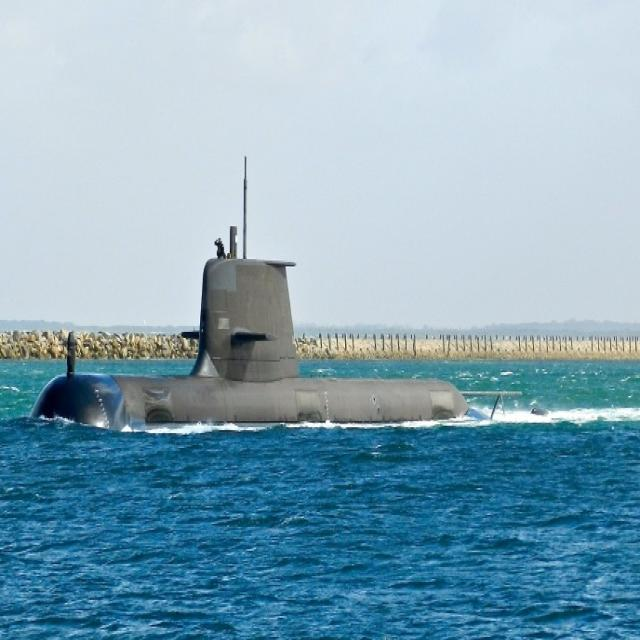submarine: (27, 239, 552, 427)
